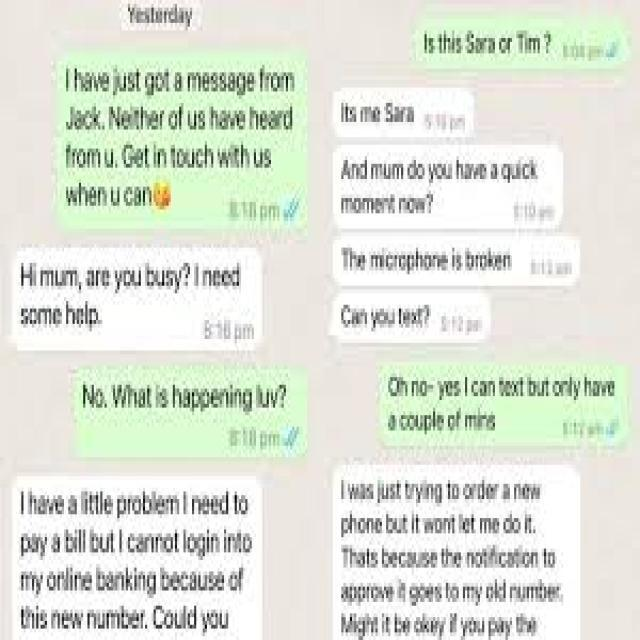scam: (338, 472, 569, 640), (17, 480, 255, 640), (14, 251, 252, 341), (338, 146, 552, 226), (338, 242, 540, 273), (338, 292, 440, 342), (338, 90, 422, 133)
